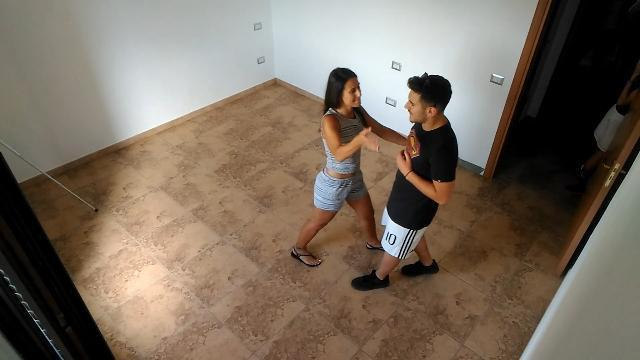violence: (290, 66, 458, 290)
